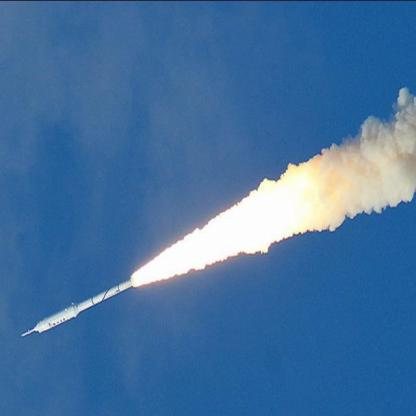MIL_TBM: (33, 271, 139, 335)
